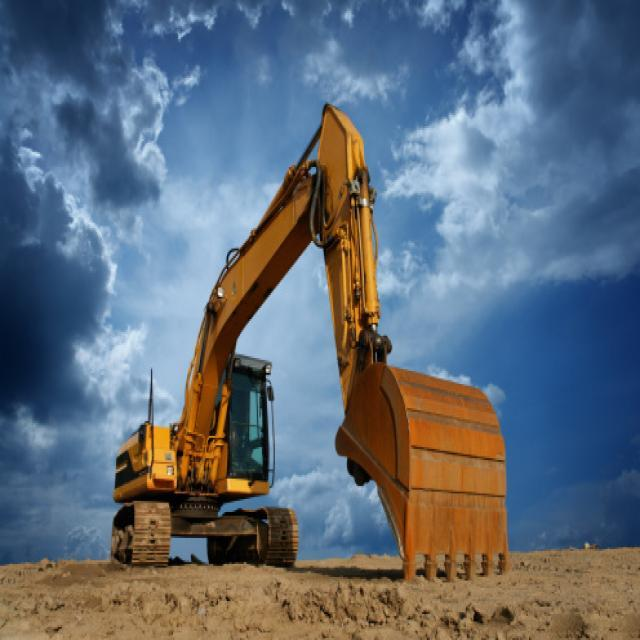C_E: (106, 95, 509, 584)
